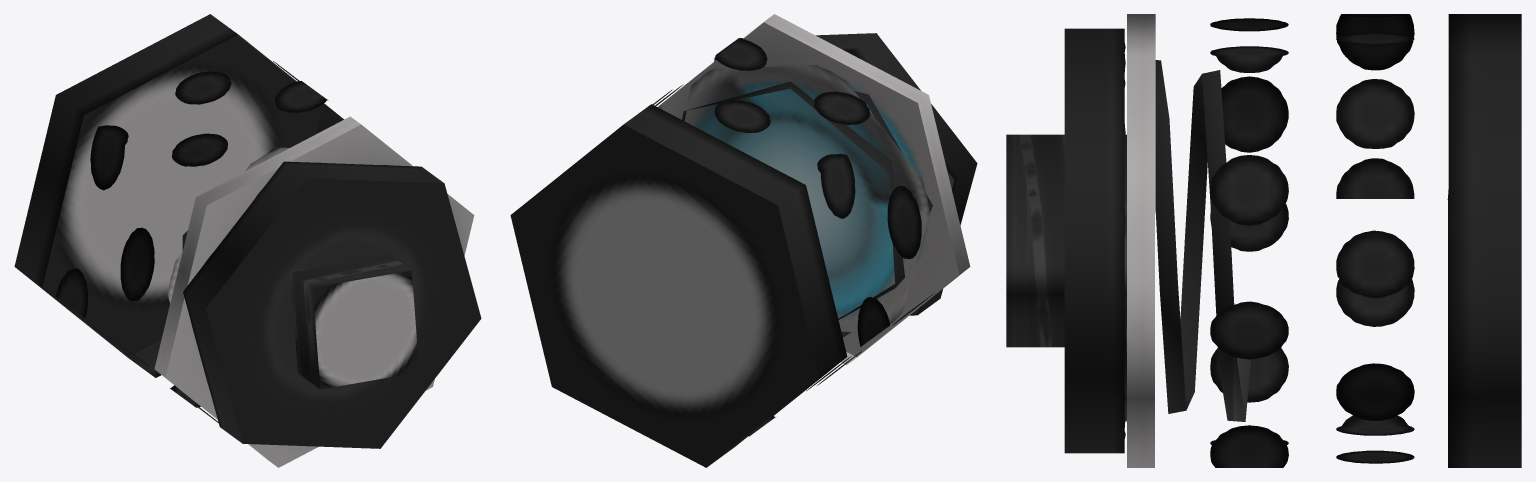
Rendered from obj_interactive_suspensionoffroad_04_on_lod1.fbx.
3 views of the same model, side by side, from view 1: azimuth 30°, elevation 25°; view 2: azimuth 150°, elevation 25°; view 3: azimuth 270°, elevation 25° (orthographic). The views are drawn at different scales.
Visible parts, largest first — view 1: obj_interactive_suspensionoffroad_04_on_01; view 2: obj_interactive_suspensionoffroad_04_on_01; view 3: obj_interactive_suspensionoffroad_04_on_01.
Part boxes in pixels (<box>): obj_interactive_suspensionoffroad_04_on_01: <box>14,14,481,467</box>; obj_interactive_suspensionoffroad_04_on_01: <box>510,14,977,467</box>; obj_interactive_suspensionoffroad_04_on_01: <box>1006,14,1521,467</box>.
Bounding box in the file's own units: 1.02 × 1.02 × 1.13.
